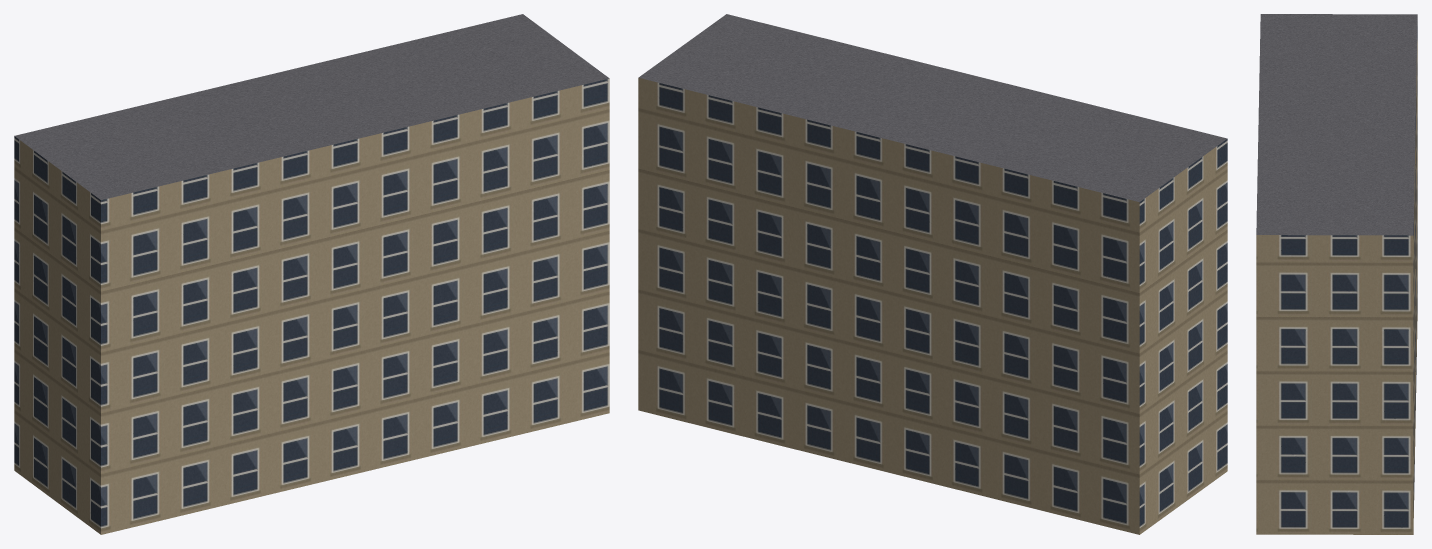
The model's file is bin1016882.glb.
3 views of the same model, side by side, from view 1: azimuth 30°, elevation 25°; view 2: azimuth 150°, elevation 25°; view 3: azimuth 270°, elevation 25° (orthographic). The views are drawn at different scales.
Parts seen in each view (by area): view 1: c2, c11, c0, c1, c5, c9, c10, c8, c6, c7, c3, c4; view 2: c2, c11, c0, c1, c5, c9, c10, c3, c4, c8, c6, c7; view 3: c5, c3, c4, c11, c2, c8, c9, c0, c10, c1.
Part boxes in pixels (x1,y1,x2,y2): c2: (14, 99, 263, 306); c11: (169, 55, 421, 267); c0: (14, 354, 263, 534); c1: (14, 242, 263, 417); c5: (373, 14, 609, 203); c9: (264, 341, 421, 495); c10: (264, 230, 421, 378); c8: (353, 50, 527, 229); c6: (421, 316, 527, 457); c7: (421, 204, 527, 340); c3: (527, 296, 609, 432); c4: (527, 185, 609, 315); c2: (986, 98, 1227, 307); c11: (806, 60, 1066, 269); c0: (986, 355, 1227, 534); c1: (986, 244, 1227, 418); c5: (638, 14, 807, 219); c9: (806, 336, 986, 496); c10: (806, 225, 986, 380); c3: (638, 294, 785, 446); c4: (638, 183, 785, 330); c8: (785, 34, 911, 224); c6: (785, 331, 806, 451); c7: (785, 220, 806, 335); c5: (1256, 170, 1414, 330); c3: (1256, 378, 1414, 534); c4: (1256, 278, 1414, 430); c11: (1258, 81, 1416, 241); c2: (1259, 14, 1417, 170); c8: (1257, 153, 1414, 259); c9: (1415, 288, 1416, 446); c0: (1416, 217, 1417, 374); c10: (1415, 188, 1416, 341); c1: (1416, 117, 1417, 269).
Bounding box in the file's own units: 30.55 × 19.26 × 9.4.
Materials: 3 (3 with a texture image).
